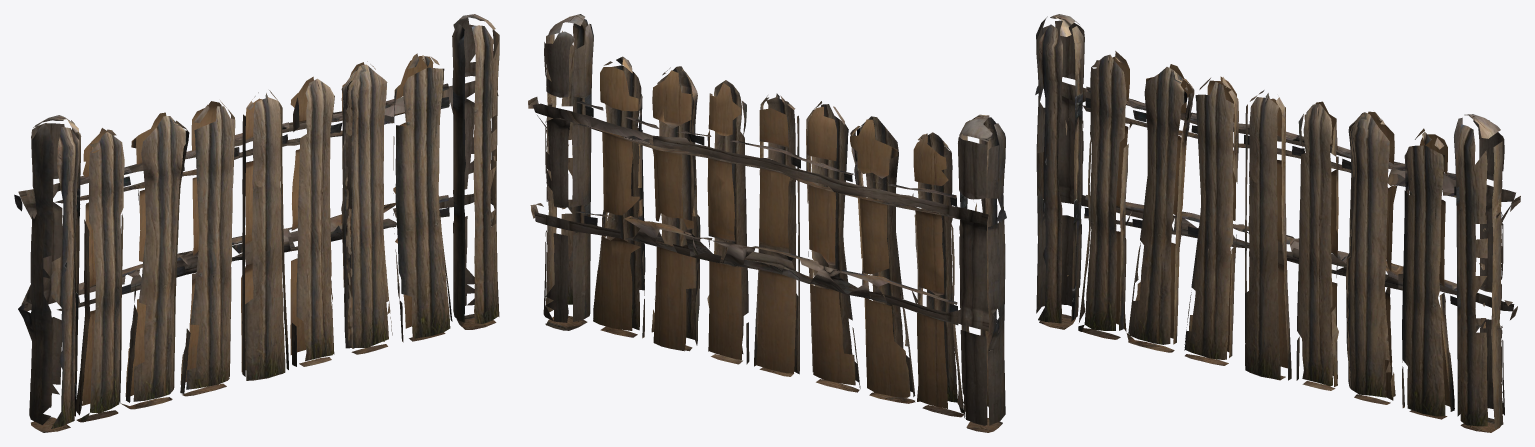
Rendered from weidezaun.glb.
The picture shows the model from 3 angles, left to right: view 1: azimuth 30°, elevation 25°; view 2: azimuth 150°, elevation 25°; view 3: azimuth 330°, elevation 25°; orthographic projection.
Size of the model in its own units: 2 by 1.25 by 0.2274.
Materials: 1 (1 with a texture image).
